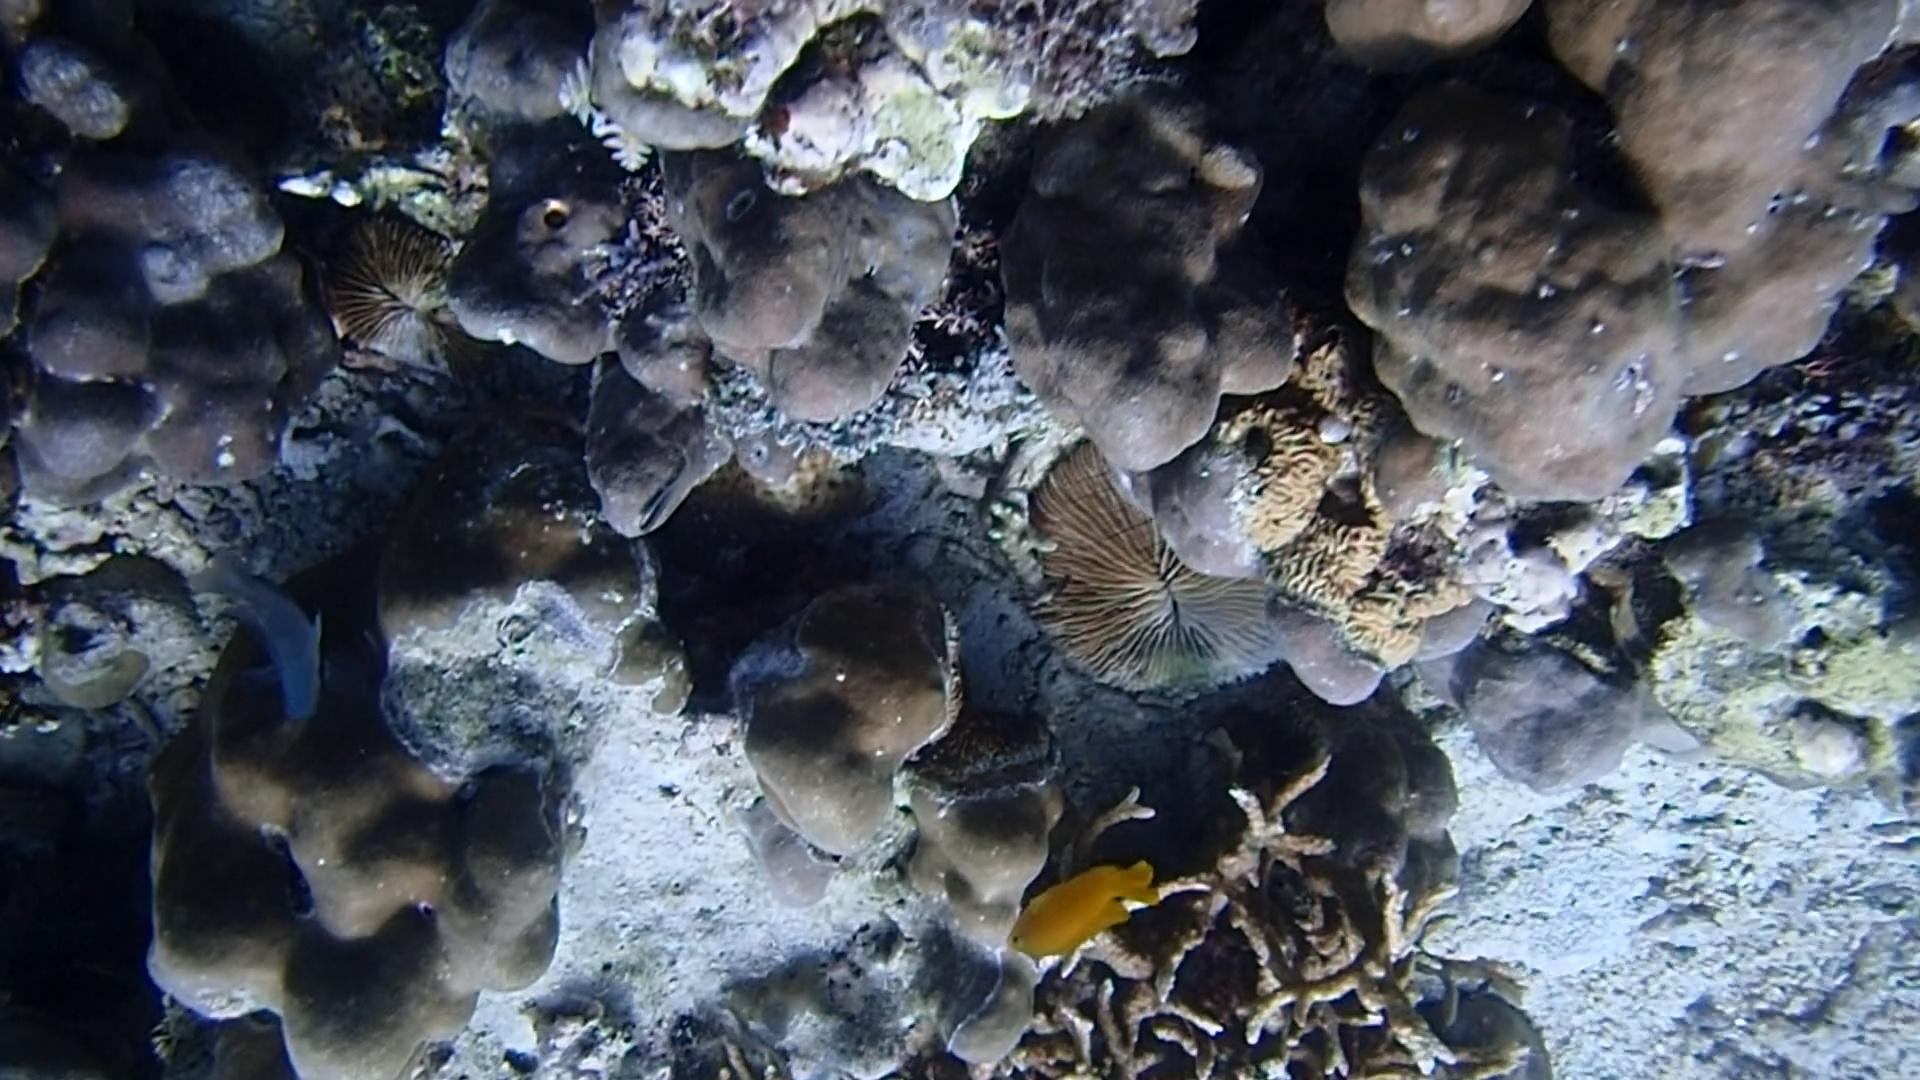Blue Fish Two: (175, 538, 351, 732)
Yellow Fish: (993, 848, 1167, 964)
